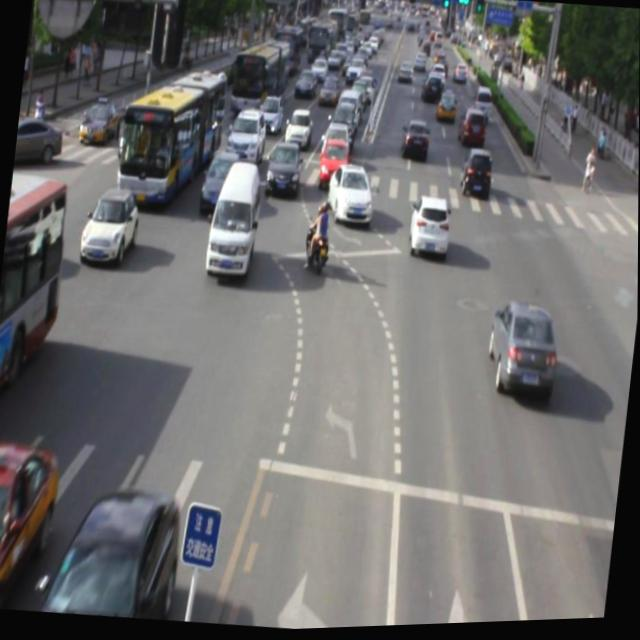car: (47, 481, 184, 625), (0, 438, 61, 613), (486, 300, 561, 403), (78, 184, 141, 268), (323, 159, 376, 228), (200, 147, 245, 216), (405, 193, 450, 260), (265, 140, 301, 201)
truck: (206, 159, 260, 279)
van: (0, 171, 71, 401), (113, 66, 225, 210)
